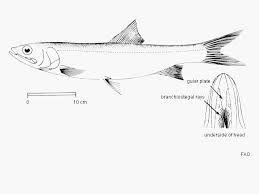Tenpounder: (8, 19, 246, 94)
